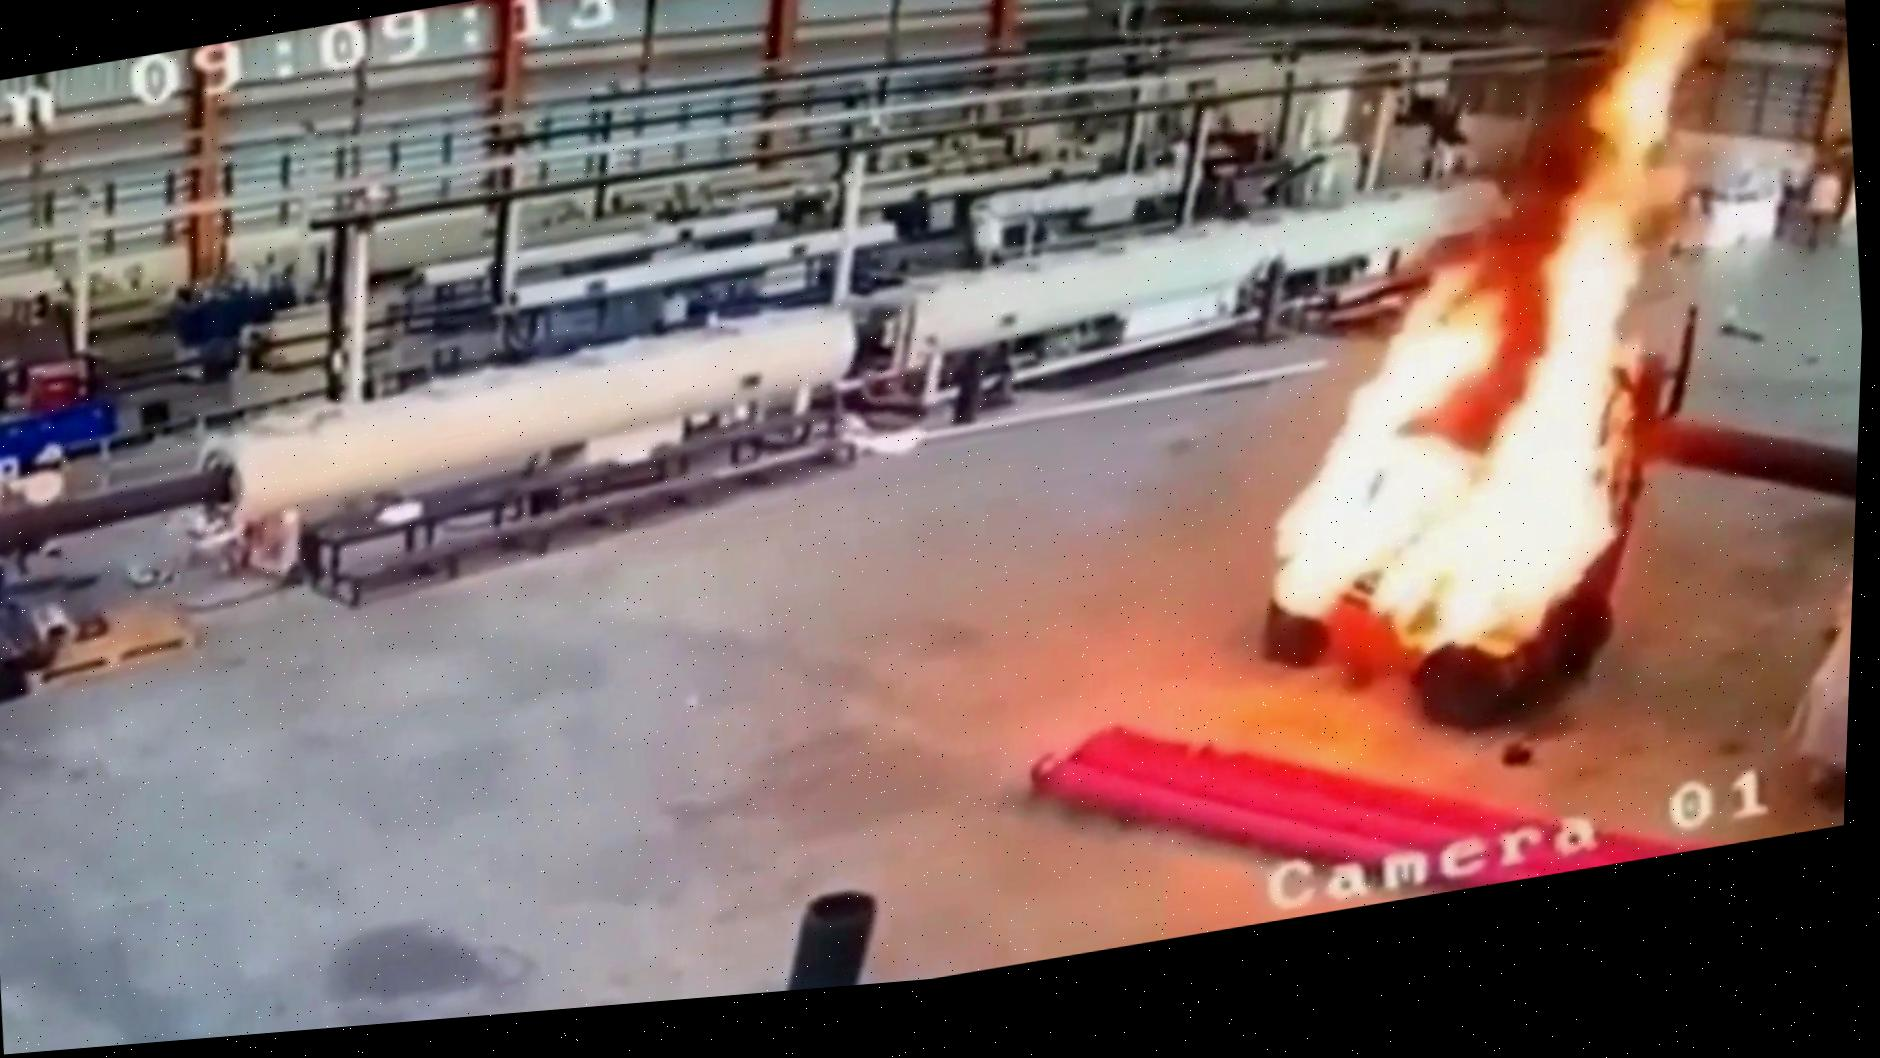fire: (1161, 5, 1843, 770)
